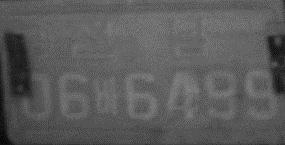0: (19, 71, 53, 122)
4: (164, 70, 200, 120)
6: (124, 70, 158, 122), (56, 72, 91, 122)
9: (241, 67, 278, 122), (203, 69, 239, 121)
바: (92, 75, 121, 118)
영: (20, 21, 61, 67)
전남_D: (67, 17, 213, 62)
